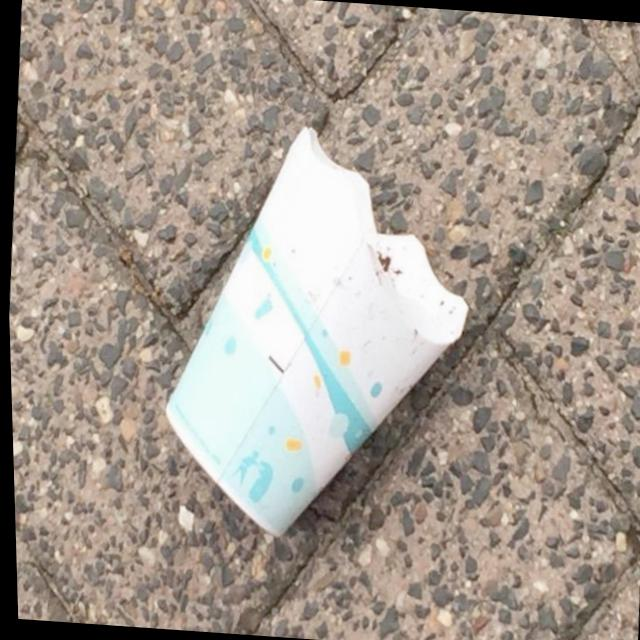Paper: (144, 113, 486, 551)
